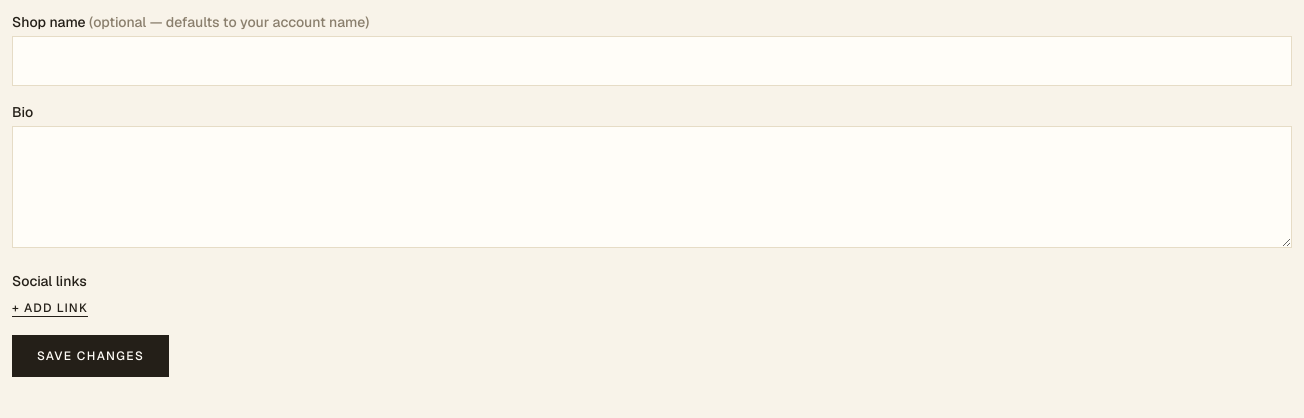
it: ShopProfileForm › shows a field error for shopName returned by the action
The width and height of the screenshot is (1304, 418).
Click the button with test id "shop-profile-form-submit-button".
click(91, 356)  # box [12,335,169,377]
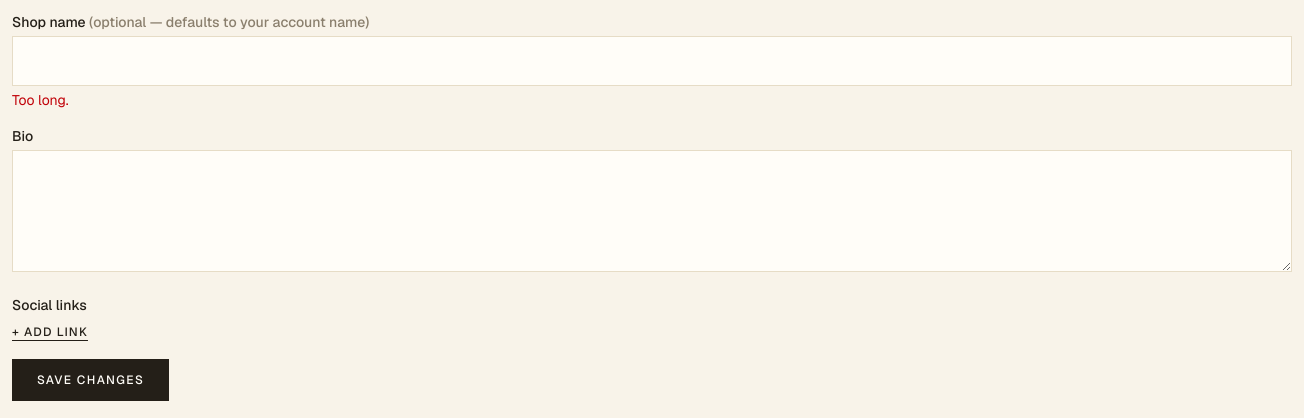
Check: the text "Too long." is shown, box [12,91,69,109]
